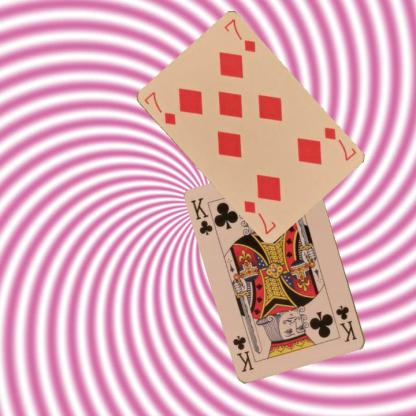7d: (320, 124, 358, 162), (141, 89, 177, 127)
Kc: (188, 195, 214, 237), (334, 303, 358, 344)
